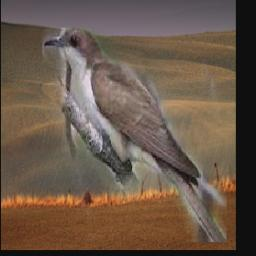Cuckoo: (43, 29, 228, 243)
